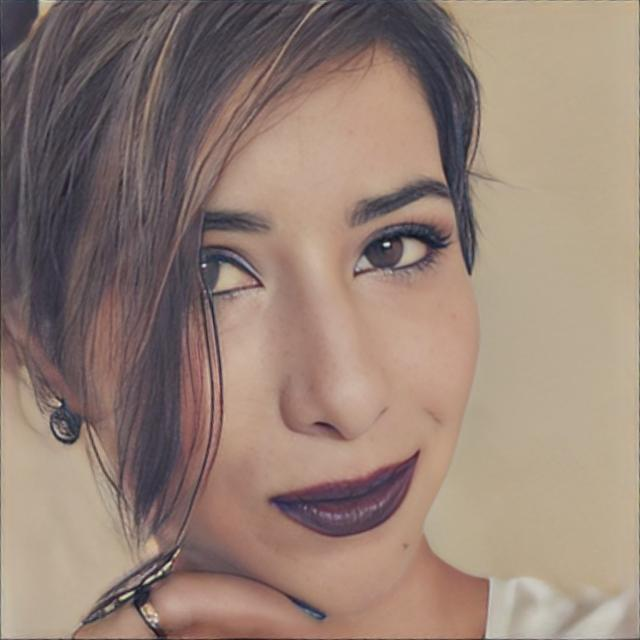happy: (88, 41, 482, 614)
